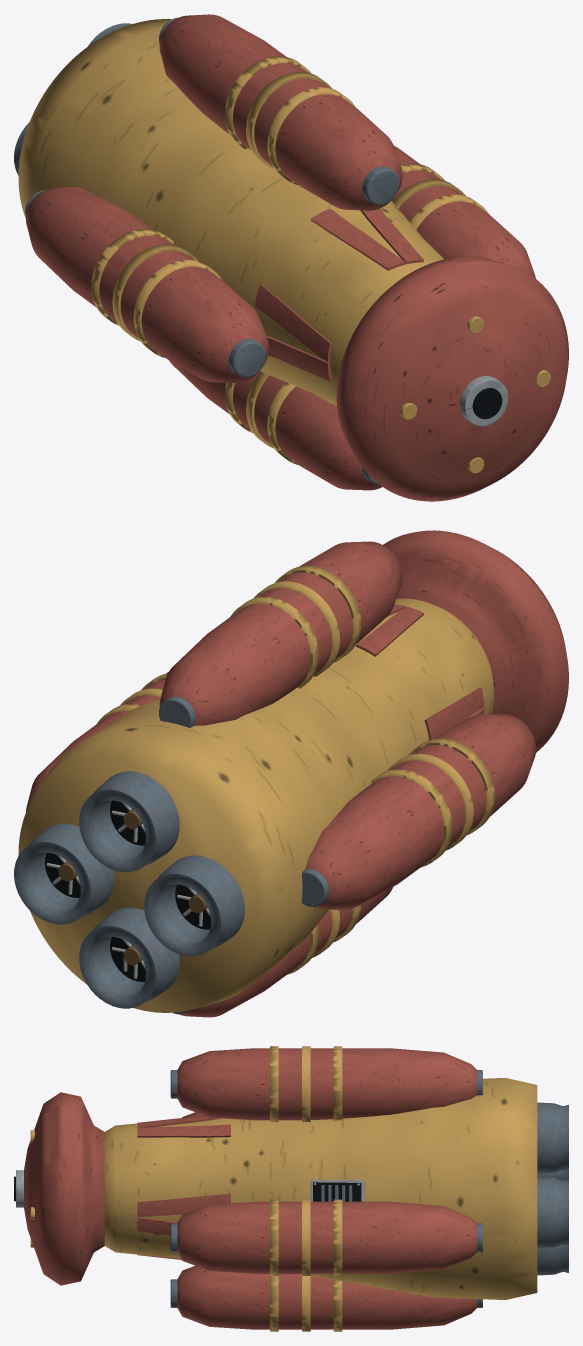
The picture shows the model from 3 angles, top to bottom: view 1: azimuth 30°, elevation 25°; view 2: azimuth 150°, elevation 25°; view 3: azimuth 270°, elevation 25°; orthographic projection. The views are drawn at different scales.
Visible parts, largest first — view 1: PrimaryHullAndArmour, RecessedMachinery, TrimAndFasteners; view 2: PrimaryHullAndArmour, RecessedMachinery; view 3: PrimaryHullAndArmour, RecessedMachinery, ServiceAssemblies.
Boxes of the visible parts, <box> form: PrimaryHullAndArmour: <box>18,14,568,501</box>; RecessedMachinery: <box>14,23,502,419</box>; TrimAndFasteners: <box>400,316,550,473</box>; PrimaryHullAndArmour: <box>18,530,568,1017</box>; RecessedMachinery: <box>14,771,244,1008</box>; PrimaryHullAndArmour: <box>16,1046,537,1331</box>; RecessedMachinery: <box>14,1102,568,1275</box>; ServiceAssemblies: <box>310,1179,364,1201</box>.
Size of the model in its own units: 2.13 by 2.13 by 3.84.
1 material, 1 textured.
